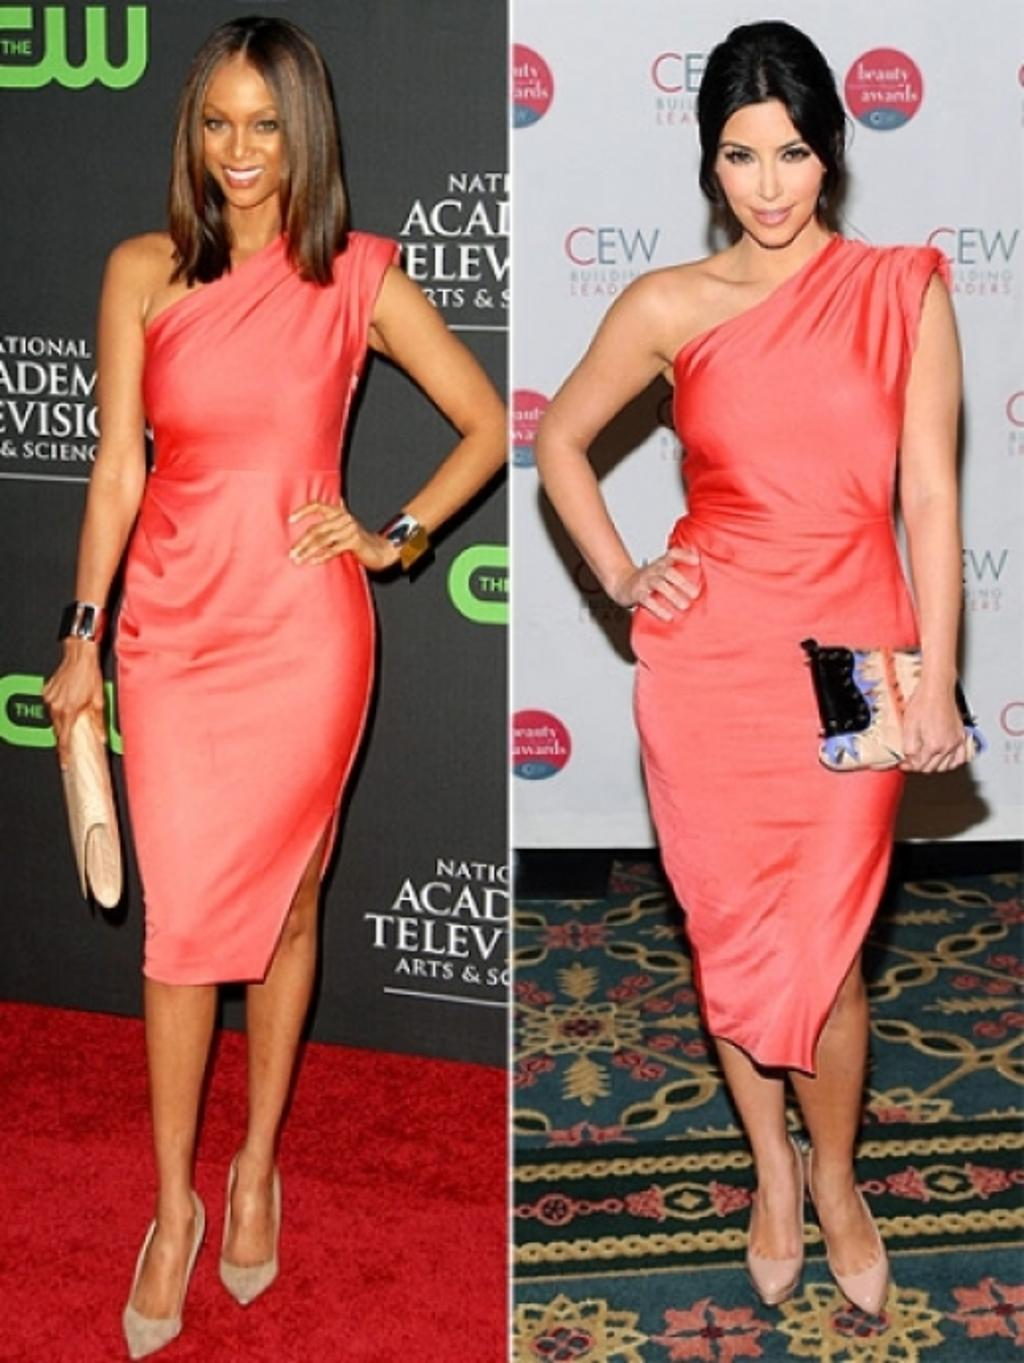face: (715, 90, 821, 244), (199, 59, 297, 205)
